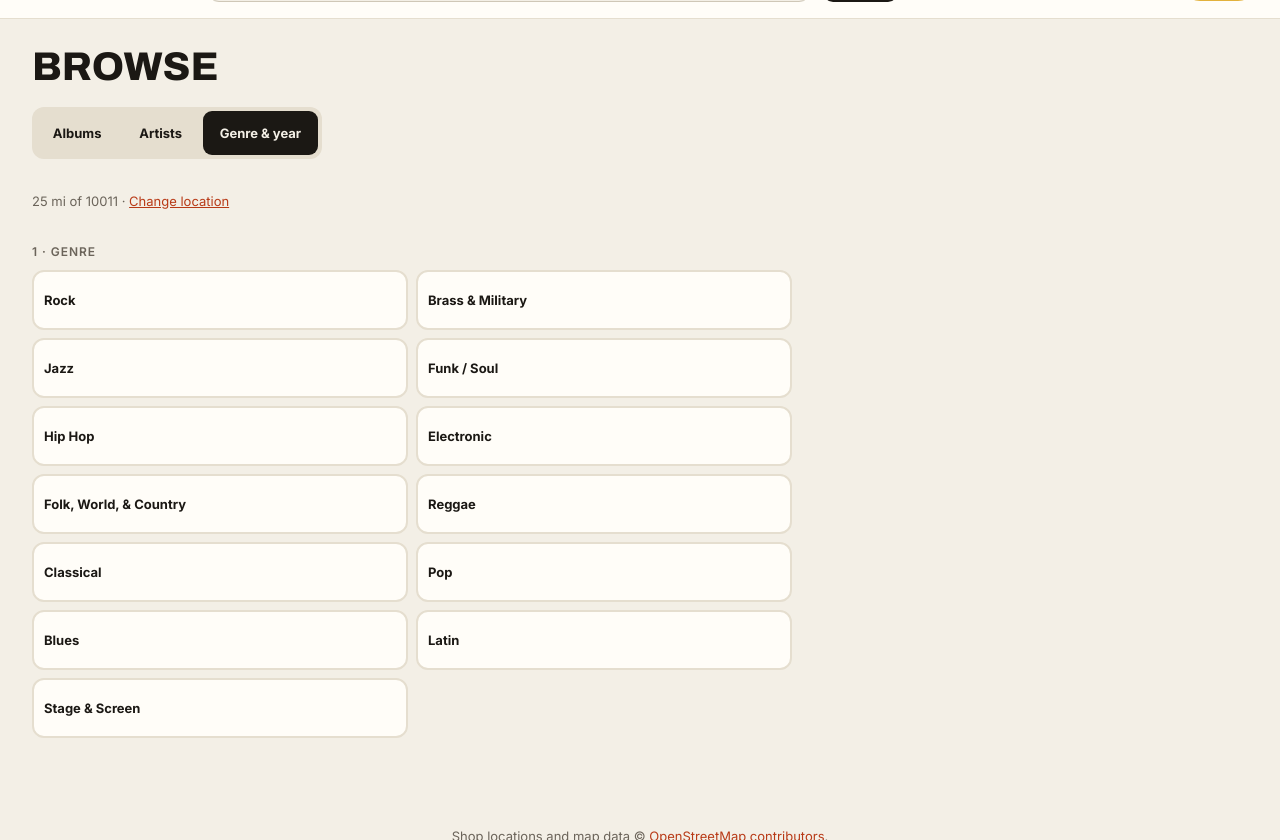
Search rule 5: lists every catalog genre, then its styles, and browses a style
Expected: the button "Brass & Military" is shown, x1=416 y1=270 x2=792 y2=330
Expected: the button "Jazz" is shown, x1=32 y1=338 x2=408 y2=398
Step 1. Click the button "Rock" → (60, 300), box x1=32 y1=270 x2=408 y2=330
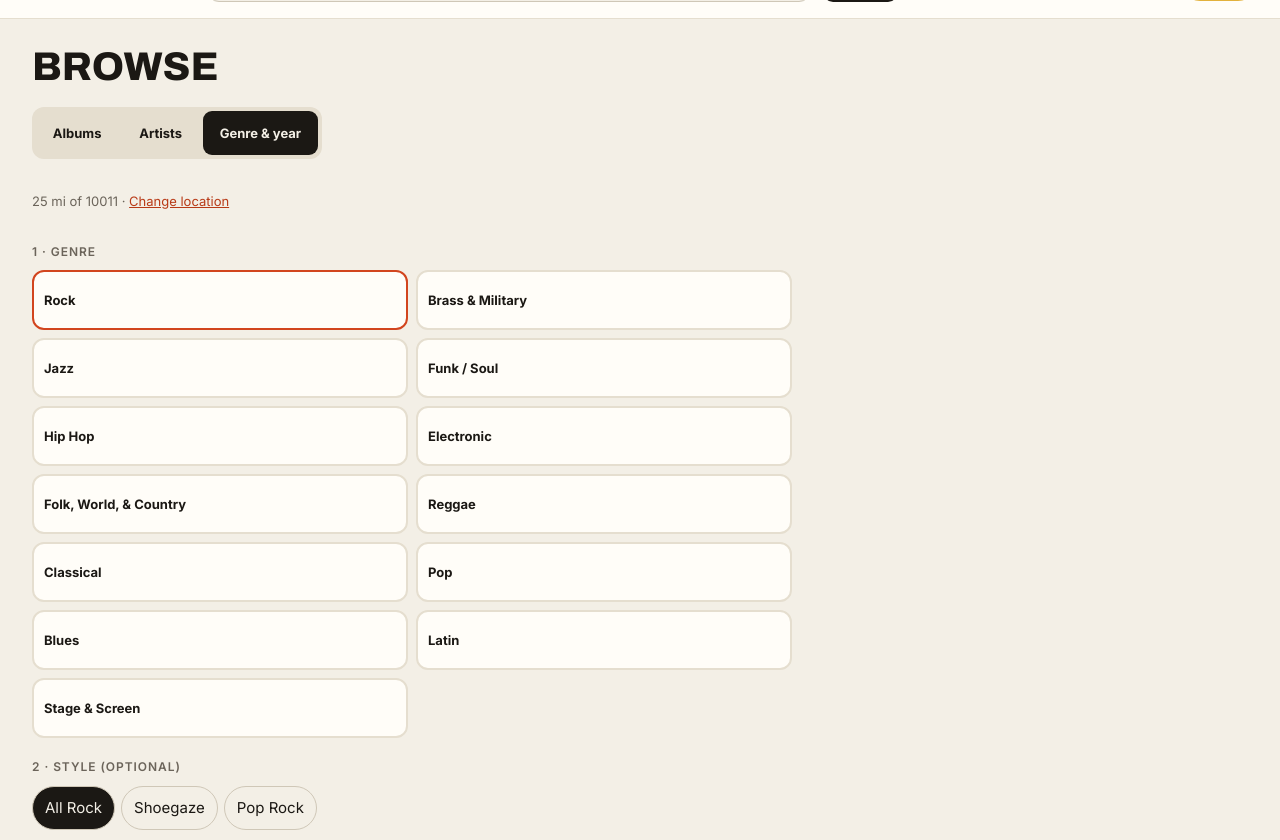
Result: the heading "2 · Style (optional)" is shown at x1=32 y1=759 x2=181 y2=774
Step 2. Click the button "Shoegaze" → (169, 808), box x1=121 y1=786 x2=218 y2=830
(page scrolled)
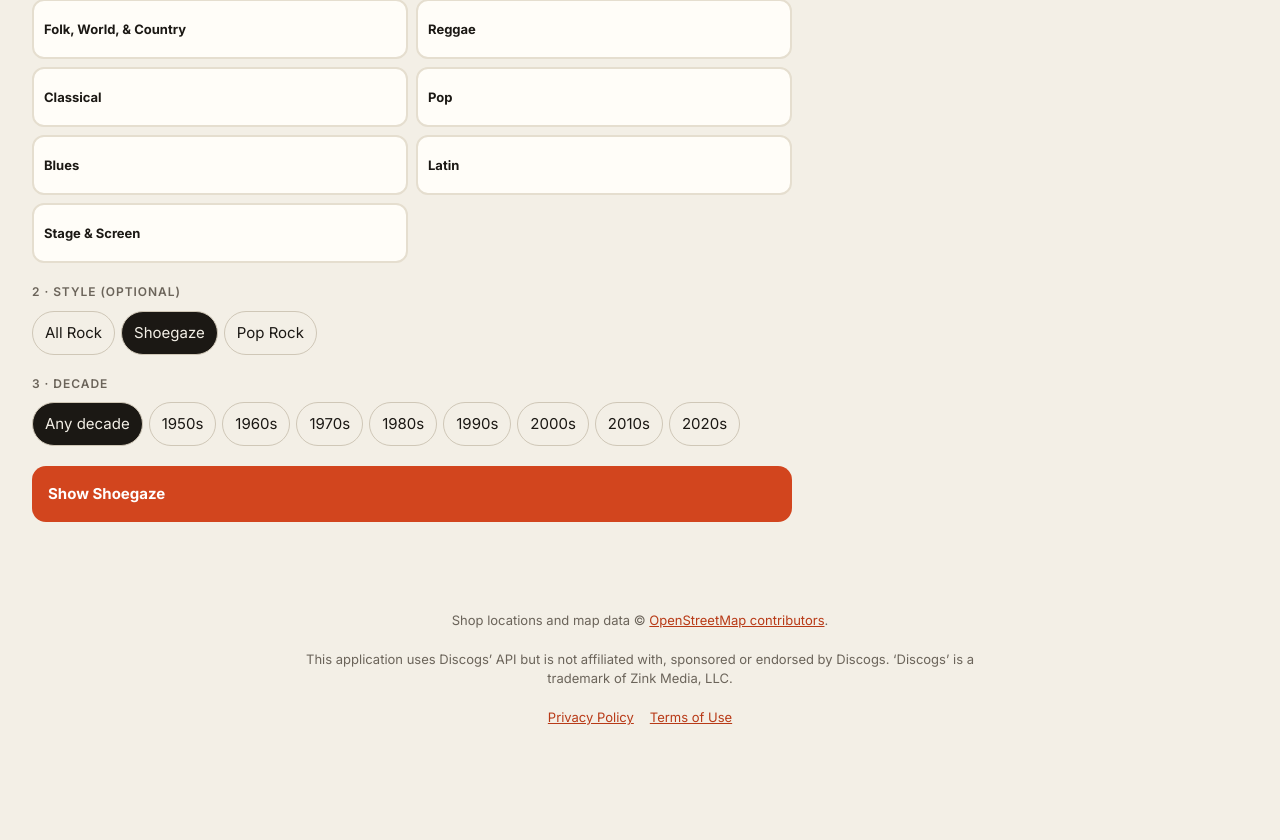
Step 3. Click the link "Show Shoegaze" → (70, 494), box x1=32 y1=466 x2=792 y2=522
(page scrolled)
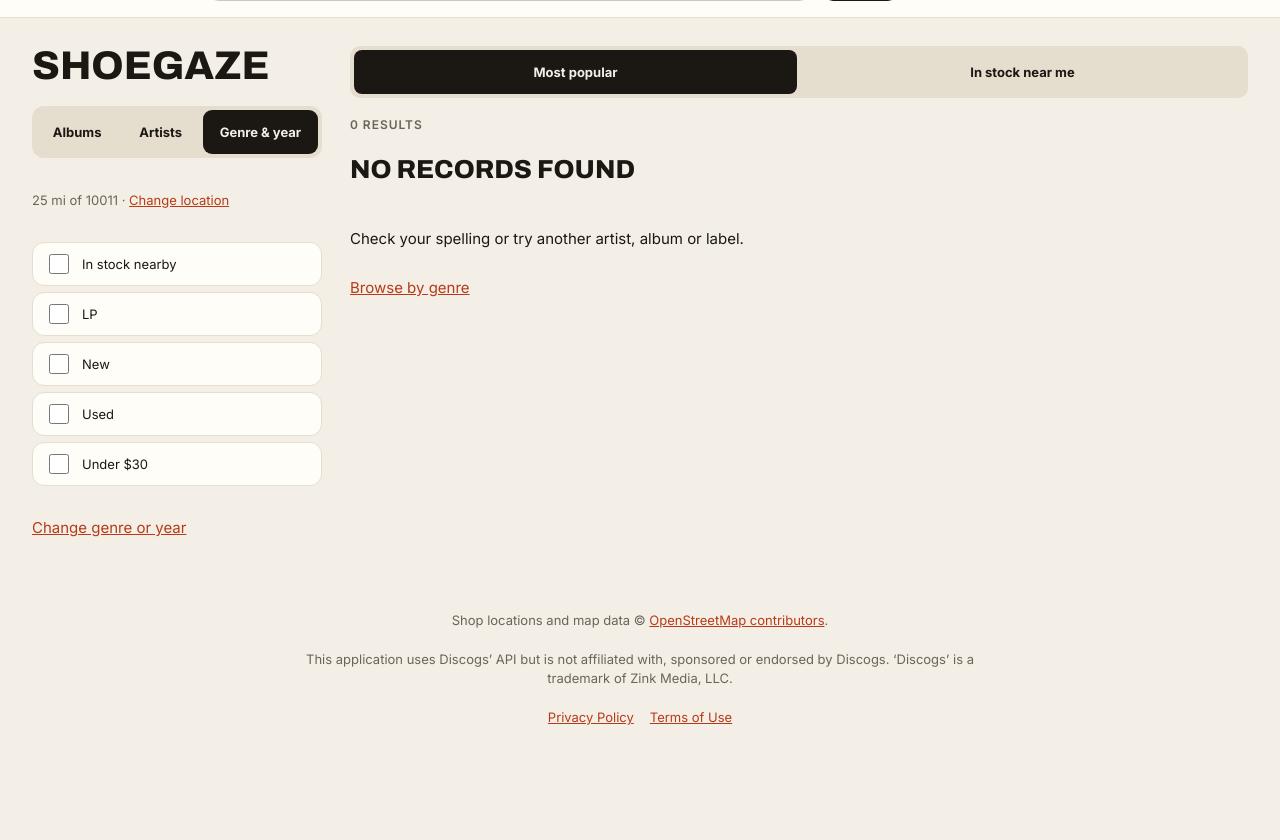
Result: the heading "Shoegaze" is shown at x1=32 y1=44 x2=269 y2=87
